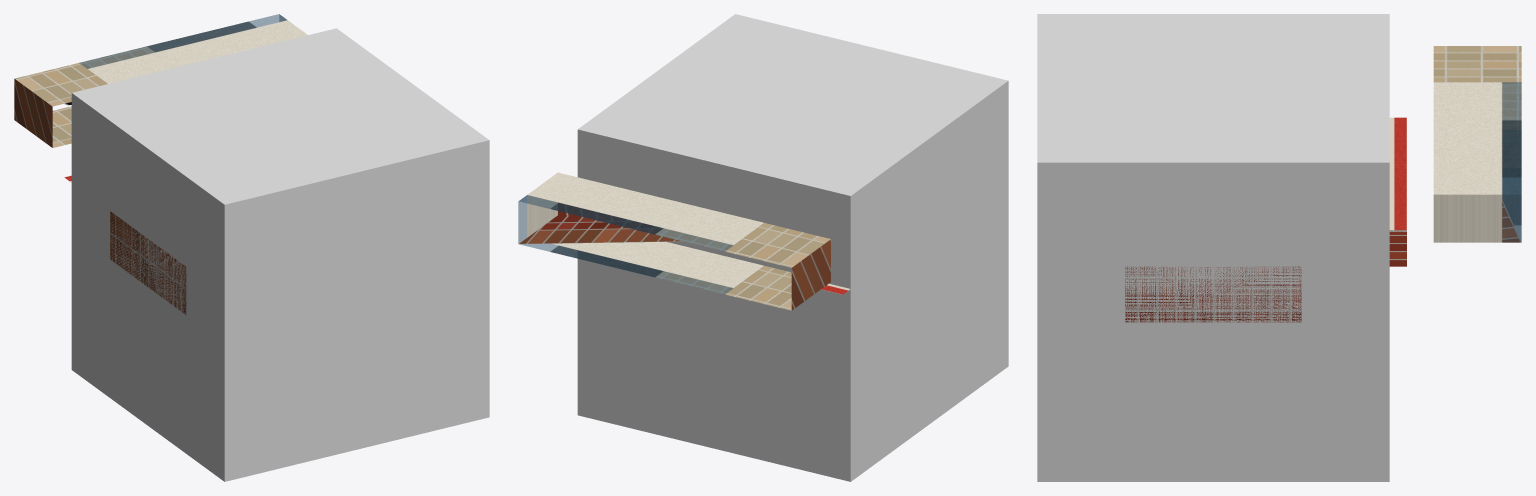
File: city_hall.glb
3 renders of one model, left to right at view 1: azimuth 30°, elevation 25°; view 2: azimuth 150°, elevation 25°; view 3: azimuth 270°, elevation 25°, orthographic. The views are drawn at different scales.
Parts seen in each view (by area): view 1: Cube, depot_custom__bridge_xb, depot_custom__bridge_xf, depot_custom__wall_3_xb; view 2: Cube, depot_custom__bridge_xb, depot_custom__bridge_xf; view 3: Cube, depot_custom__bridge_xb, depot_custom__wall_1_xb, depot_custom__bridge_xf, depot_custom__canopy_xb, depot_custom__canopy_xf.
Boxes of the visible parts, x1,y1,x2,y2 form: Cube: (71, 28, 489, 481); depot_custom__bridge_xb: (14, 14, 307, 147); depot_custom__bridge_xf: (15, 22, 256, 147); depot_custom__wall_3_xb: (110, 211, 186, 314); Cube: (577, 14, 1008, 481); depot_custom__bridge_xb: (518, 172, 830, 310); depot_custom__bridge_xf: (551, 203, 830, 310); Cube: (1037, 14, 1389, 481); depot_custom__bridge_xb: (1433, 82, 1521, 242); depot_custom__wall_1_xb: (1125, 266, 1301, 322); depot_custom__bridge_xf: (1433, 46, 1521, 224); depot_custom__canopy_xb: (1389, 117, 1406, 231); depot_custom__canopy_xf: (1389, 232, 1406, 266).
Size of the model in its own units: 2 by 2 by 2.75.
3 materials, 2 textured.
